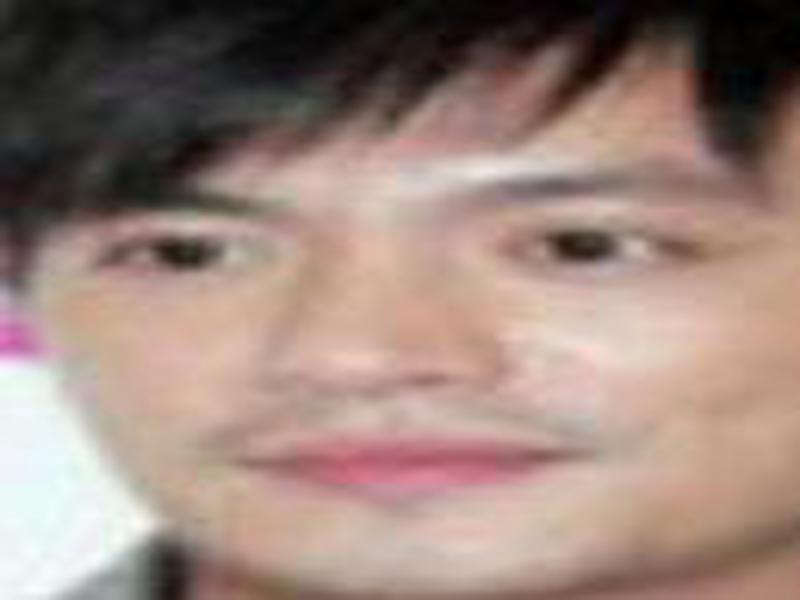without_mask: (28, 94, 800, 600)
